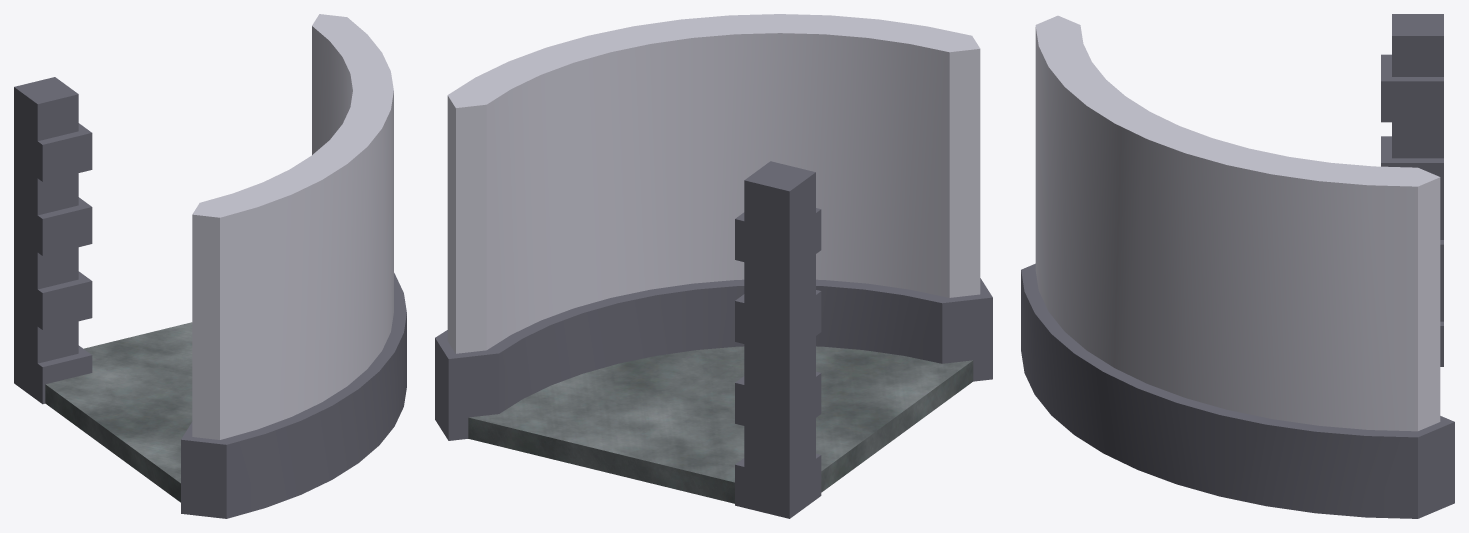
The model's file is sm_corner_02.fbx.
3 views of the same model, side by side, from view 1: azimuth 30°, elevation 25°; view 2: azimuth 150°, elevation 25°; view 3: azimuth 270°, elevation 25° (orthographic). The views are drawn at different scales.
Visible parts, largest first — view 1: corner_03_161, wall_borderBricks_159, floor_curve%_160; view 2: corner_03_161, floor_curve%_160, wall_borderBricks_159; view 3: corner_03_161, wall_borderBricks_159.
Part boxes in pixels (x1=…): corner_03_161: x1=181, y1=14, x2=406, y2=518; wall_borderBricks_159: x1=14, y1=77, x2=92, y2=404; floor_curve%_160: x1=45, y1=322, x2=192, y2=502; corner_03_161: x1=435, y1=14, x2=992, y2=440; floor_curve%_160: x1=468, y1=346, x2=973, y2=503; wall_borderBricks_159: x1=735, y1=161, x2=821, y2=518; corner_03_161: x1=1021, y1=15, x2=1454, y2=518; wall_borderBricks_159: x1=1381, y1=14, x2=1443, y2=366.
Bounding box in the file's own units: 12.05 × 10 × 12.05.
